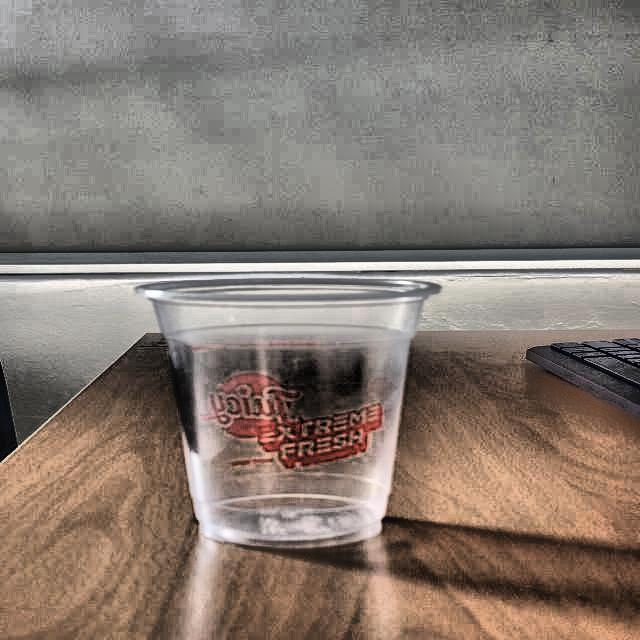plastic cup: (133, 274, 444, 549)
